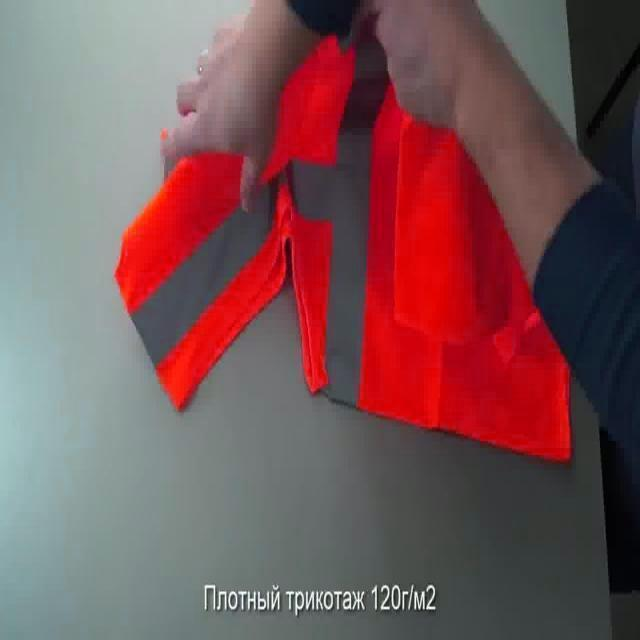vest: (108, 27, 578, 466)
